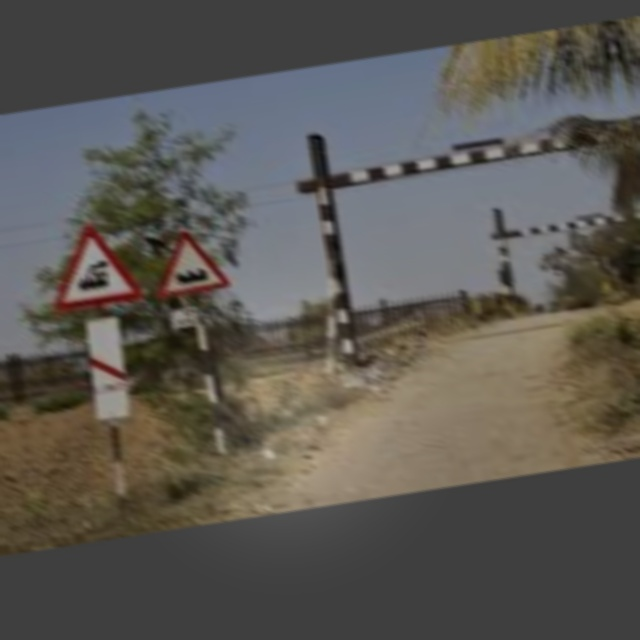Unguarded_Level_Crossing: (46, 214, 141, 320)
